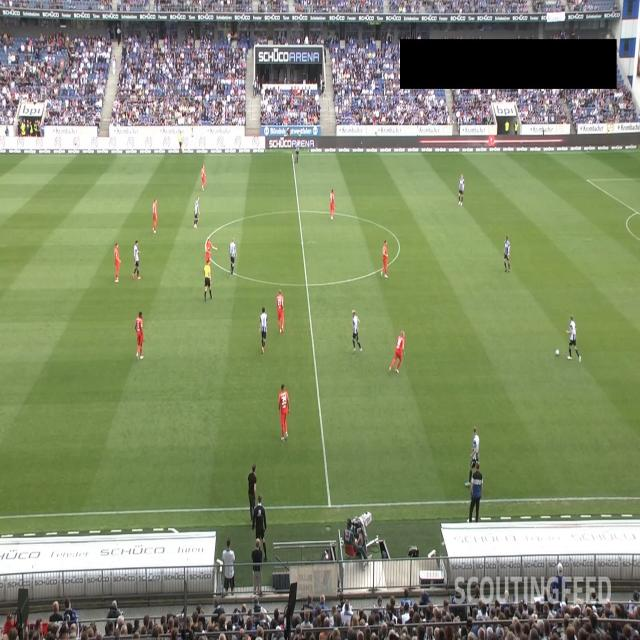ball: (556, 348, 560, 356)
